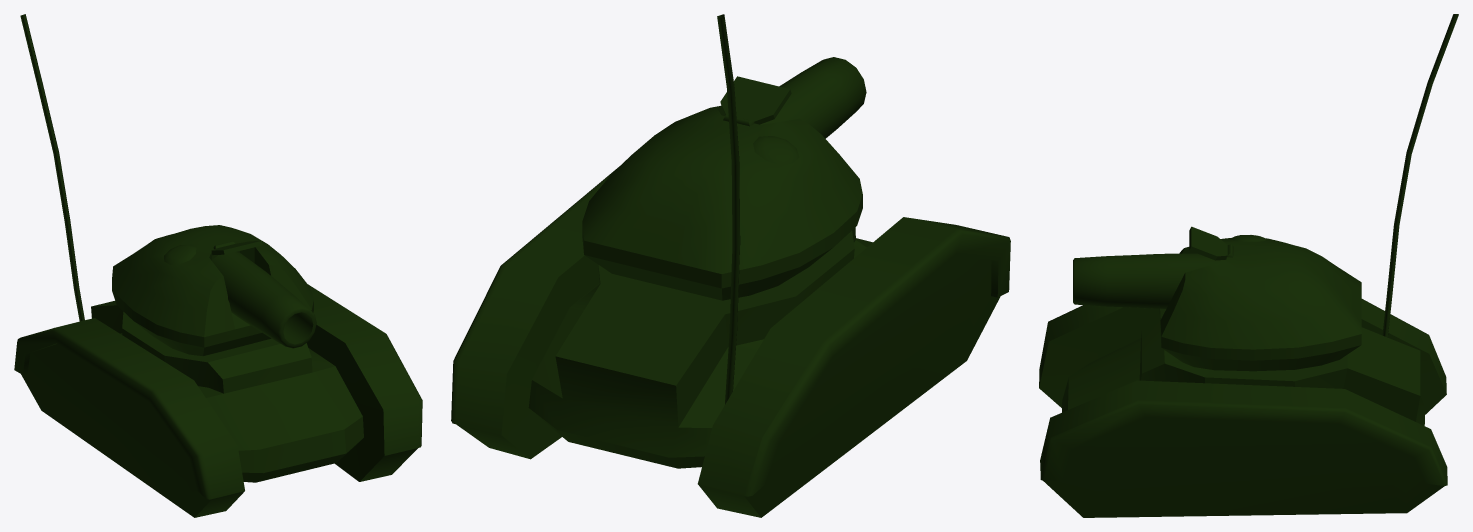
File: Tanky Boi.FBX
The picture shows the model from 3 angles, left to right: view 1: azimuth 30°, elevation 25°; view 2: azimuth 150°, elevation 25°; view 3: azimuth 270°, elevation 25°; orthographic projection. The views are drawn at different scales.
Parts seen in each view (by area): view 1: Tank, Turret001; view 2: Tank, Turret001; view 3: Tank, Turret001.
Part boxes in pixels (bbox=[...]): Tank: bbox=[14, 14, 422, 517]; Turret001: bbox=[112, 225, 316, 355]; Tank: bbox=[451, 14, 1010, 517]; Turret001: bbox=[582, 57, 866, 300]; Tank: bbox=[1039, 14, 1458, 517]; Turret001: bbox=[1073, 226, 1361, 371].
Size of the model in its own units: 60.7 by 92.16 by 86.86.
